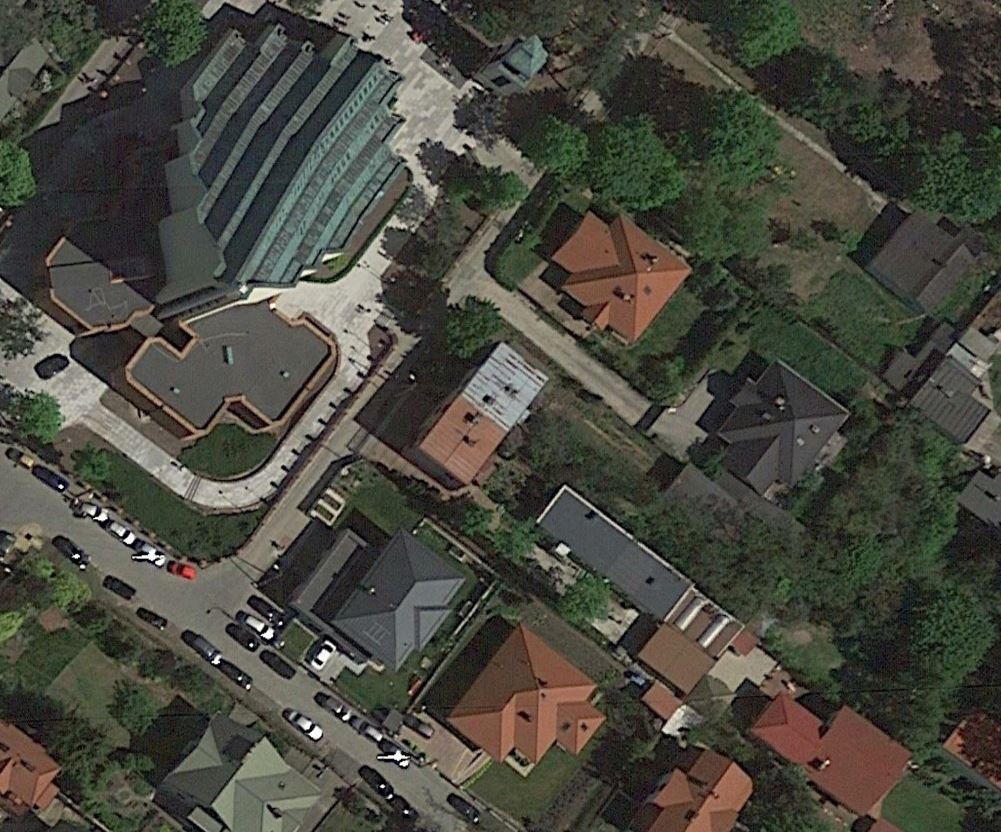church: (31, 11, 438, 435)
family house: (271, 516, 485, 677), (441, 617, 623, 775), (145, 703, 360, 832), (690, 357, 850, 518), (742, 681, 925, 819), (549, 204, 705, 352), (618, 737, 769, 832)
